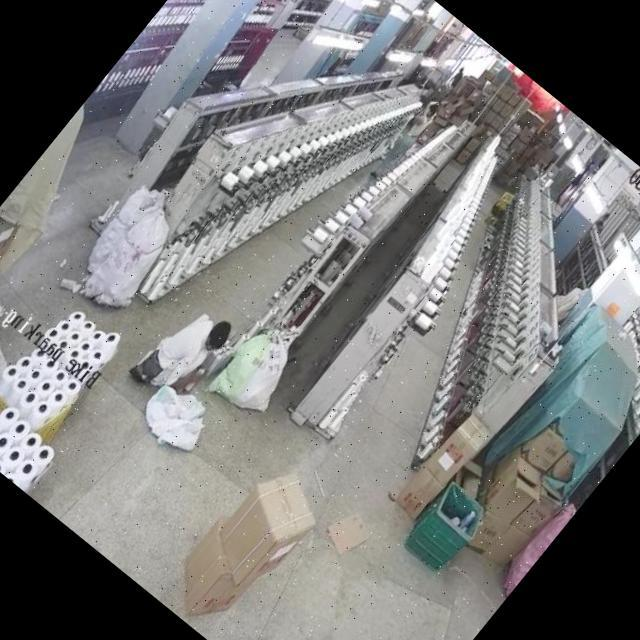person: (138, 298, 235, 400), (365, 94, 444, 184)
